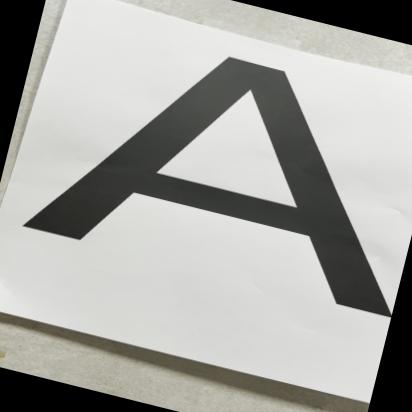seat: (16, 8, 412, 362)
